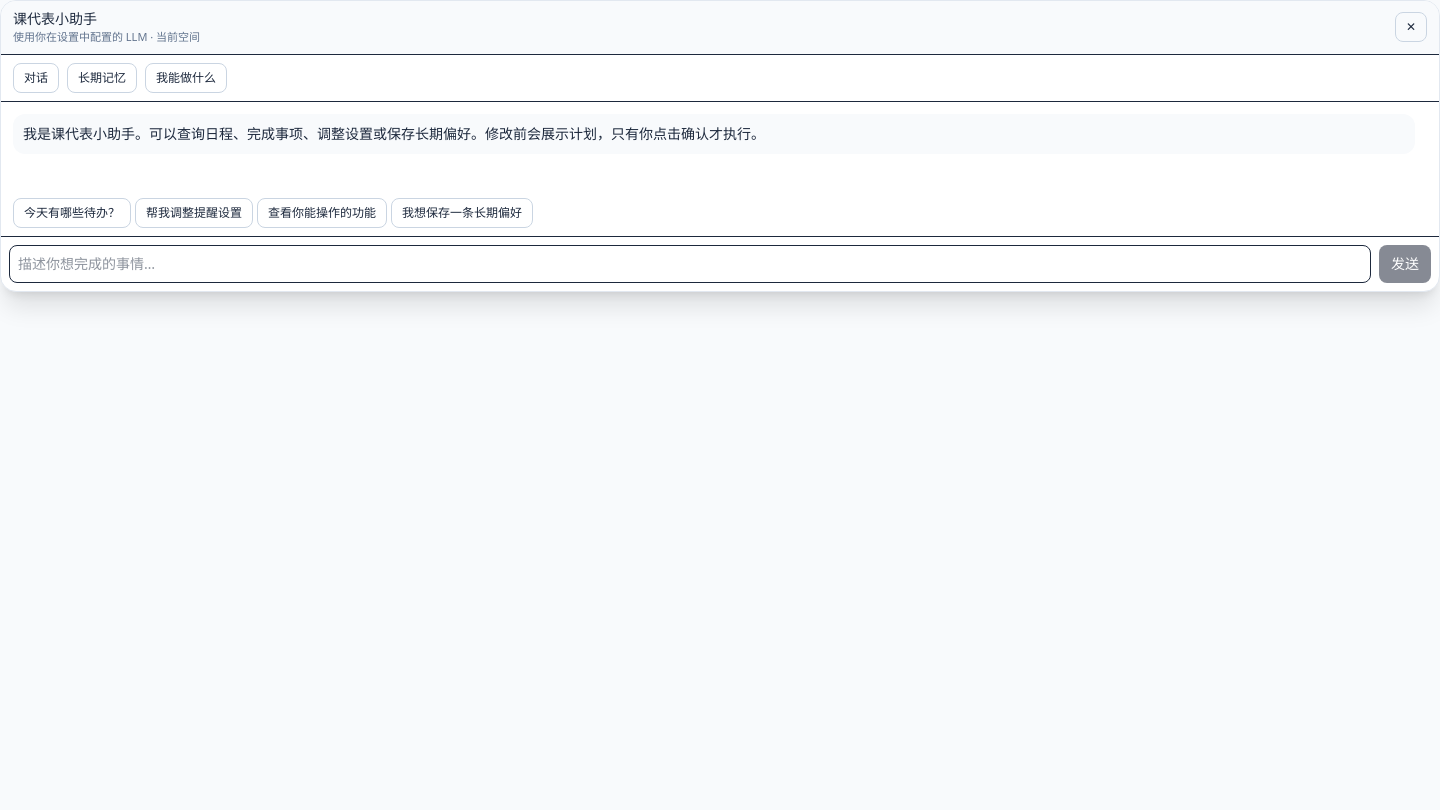
Test: 取消计划不会确认或执行操作
Type "调整设置" into the field named "给助手的消息" at (690, 264), box [9,244,1371,282]
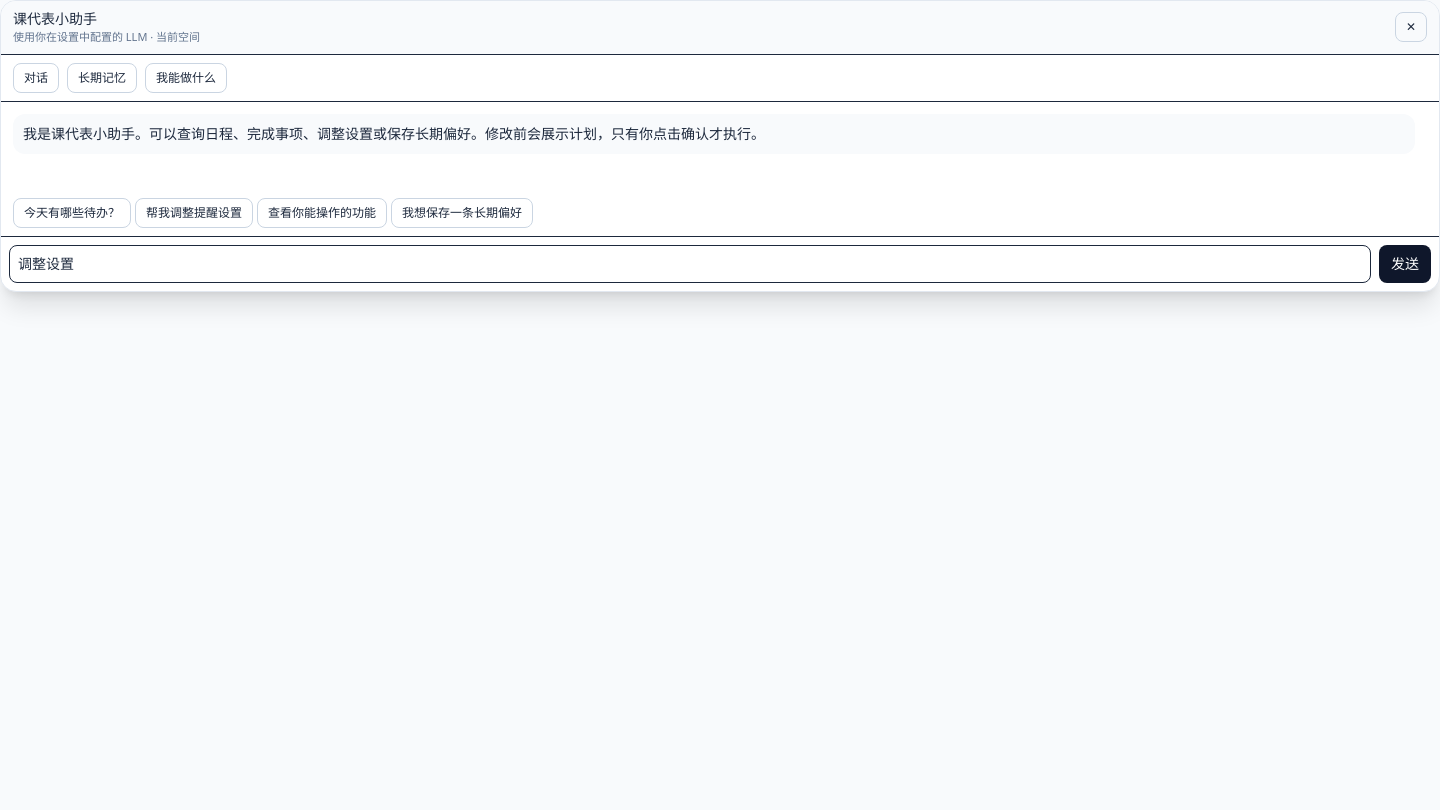
Click the button "发送" at (1405, 264), box [1379,244,1431,282]
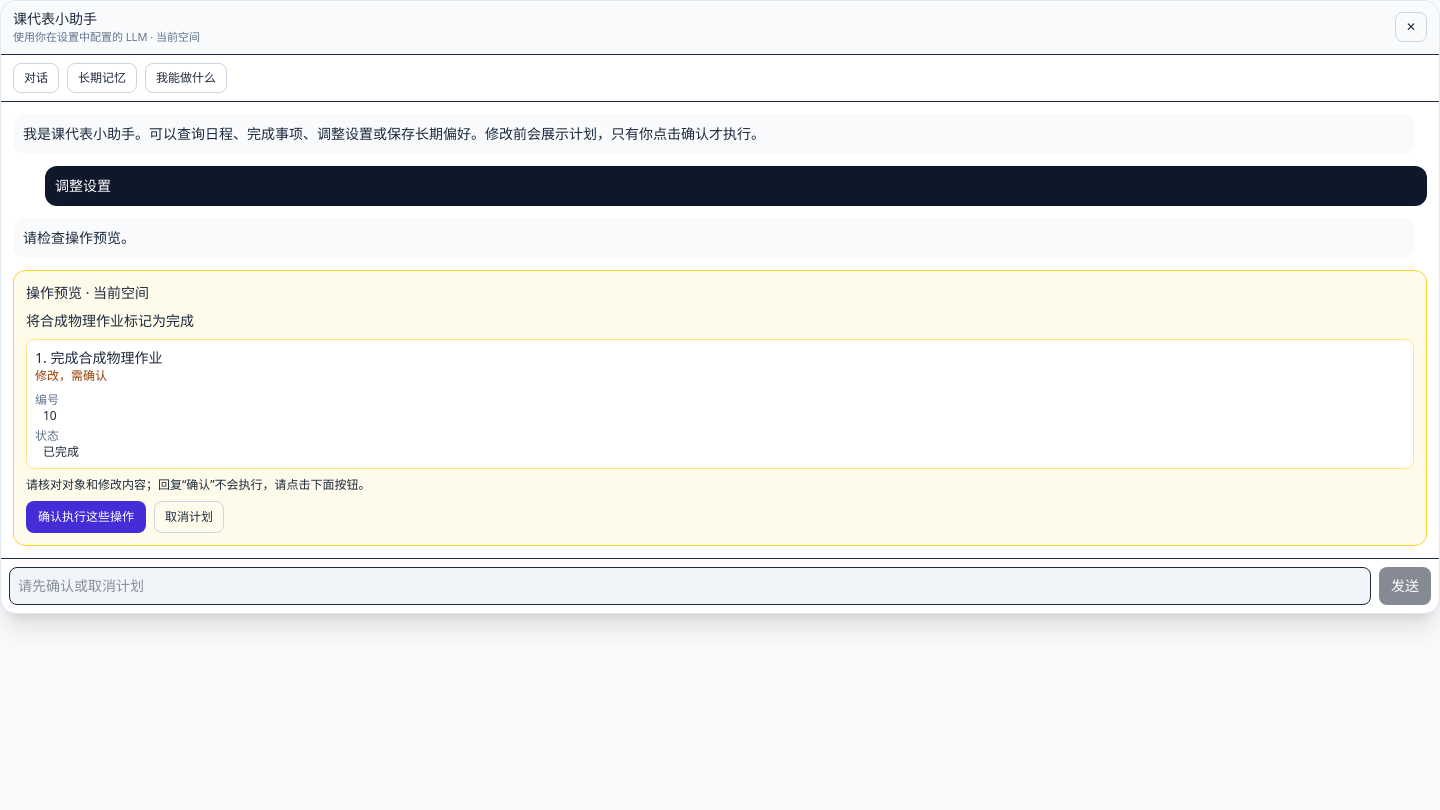
Now the text "请检查操作预览。" is shown, box [23,228,135,246]
Click the button "取消计划" at (189, 516), box [154,500,224,532]
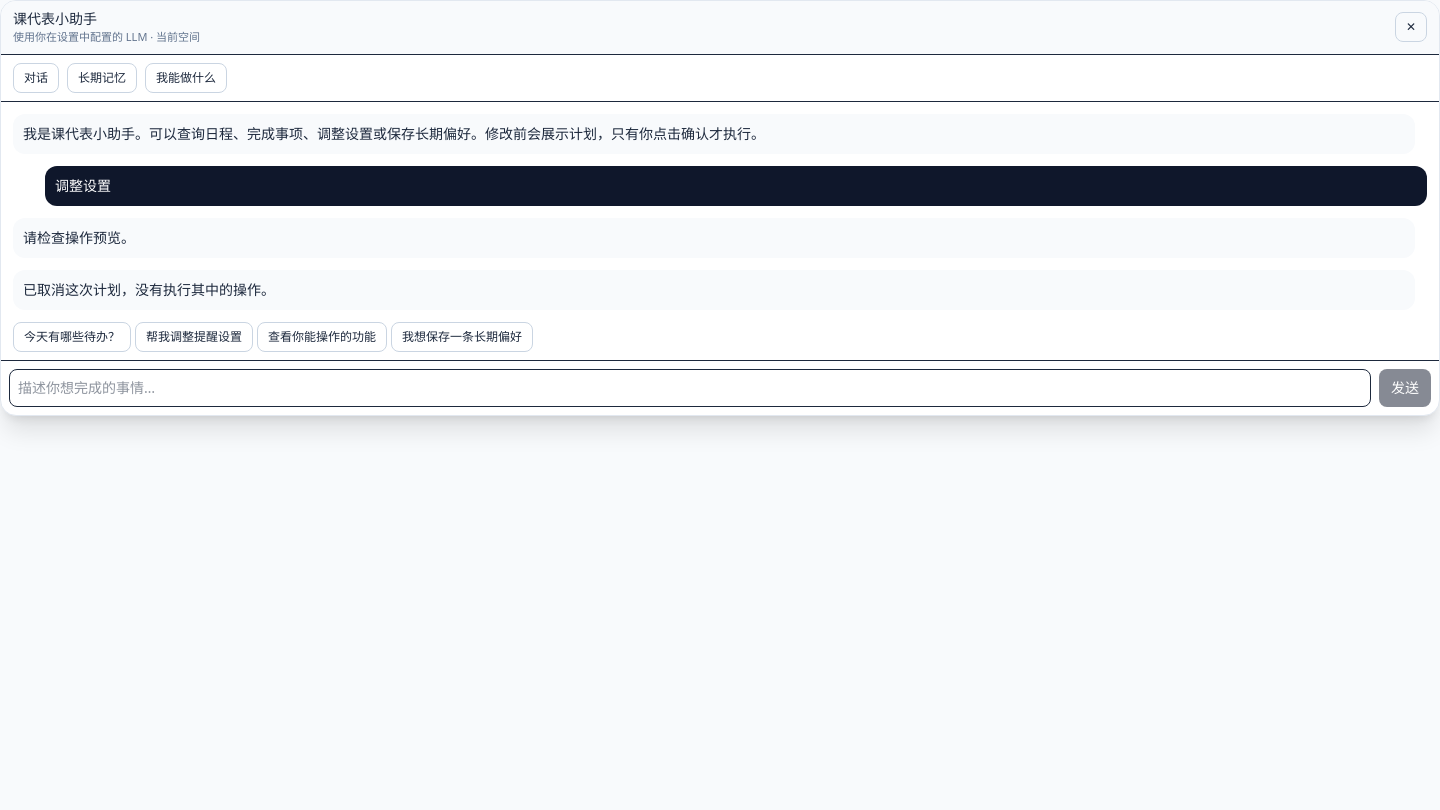
Now the text "已取消这次计划，没有执行其中的操作。" is shown, box [23,280,275,298]
